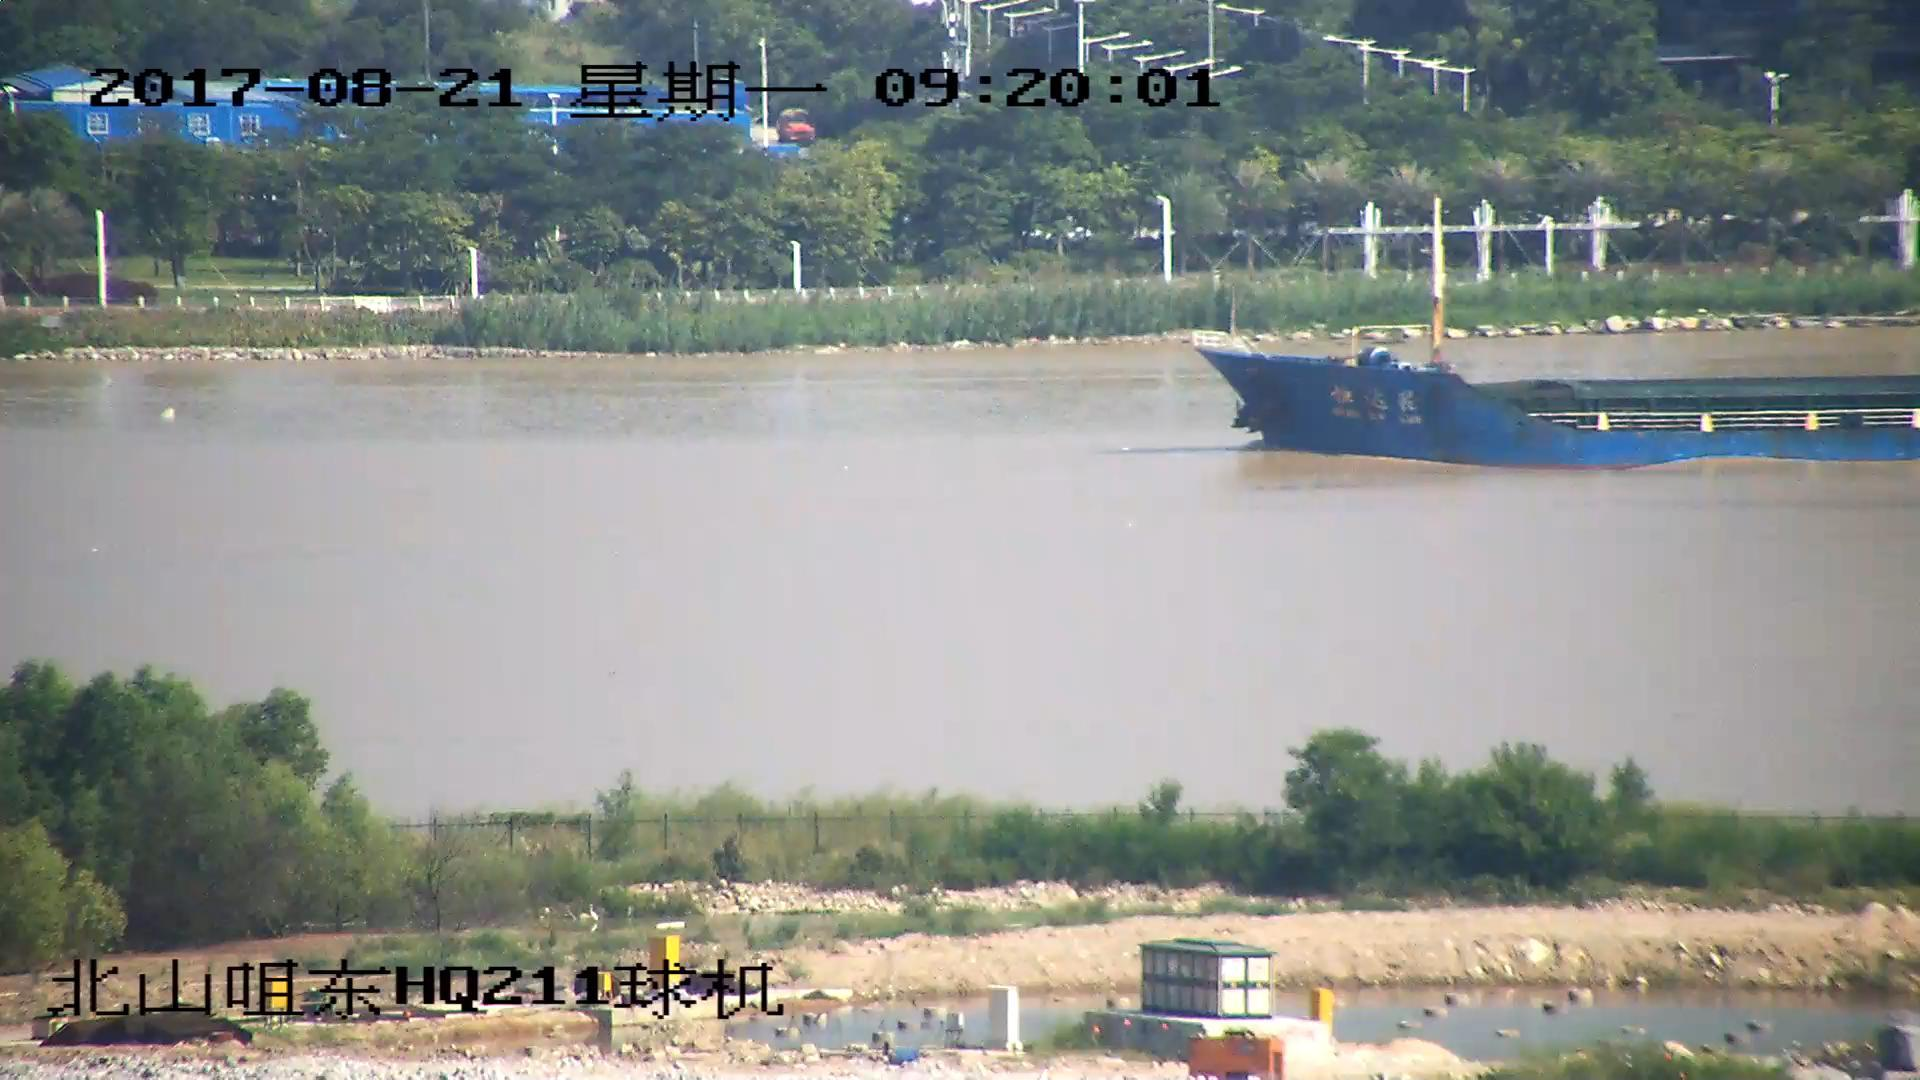Ship: (1200, 200, 1920, 469)
